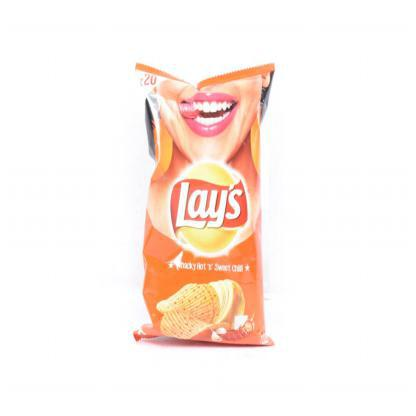hot_and_sweet: (133, 60, 276, 350)
